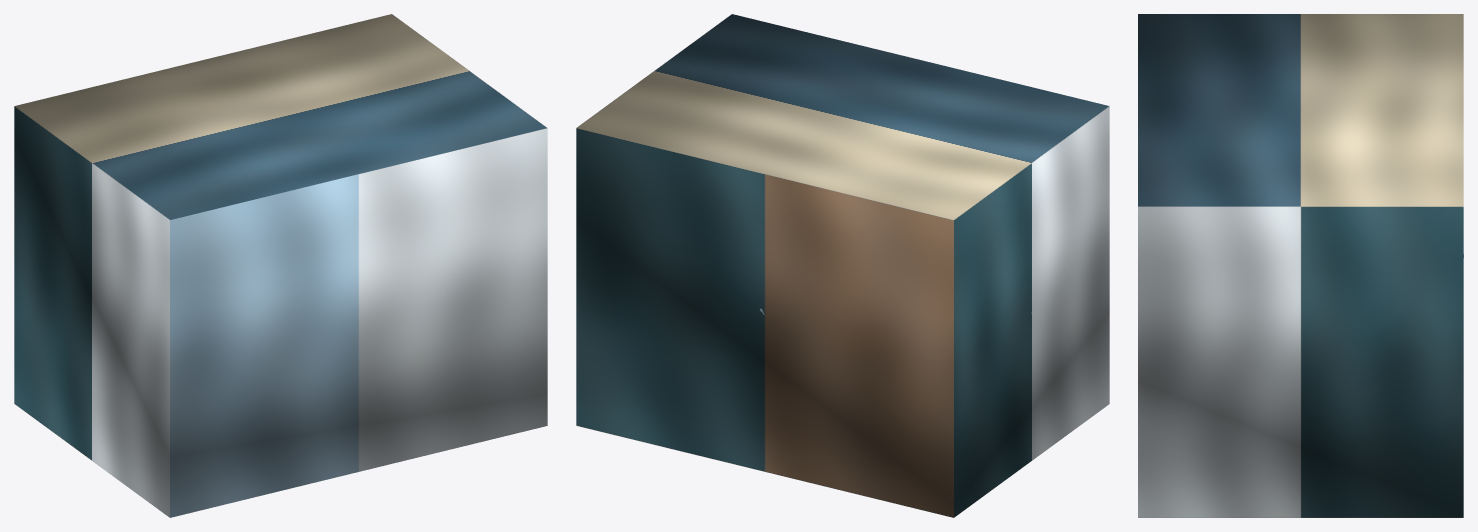
The model's file is rock_snow_b.glb.
3 views of the same model, side by side, from view 1: azimuth 30°, elevation 25°; view 2: azimuth 150°, elevation 25°; view 3: azimuth 270°, elevation 25° (orthographic). The views are drawn at different scales.
Parts seen in each view (by area): view 1: col; view 2: col; view 3: col.
Part boxes in pixels (x1=…): col: x1=14, y1=14, x2=547, y2=517; col: x1=576, y1=14, x2=1109, y2=517; col: x1=1138, y1=14, x2=1463, y2=517.
Bounding box in the file's own units: 2.34 × 1.76 × 1.67.
Materials: 1 (1 with a texture image).
